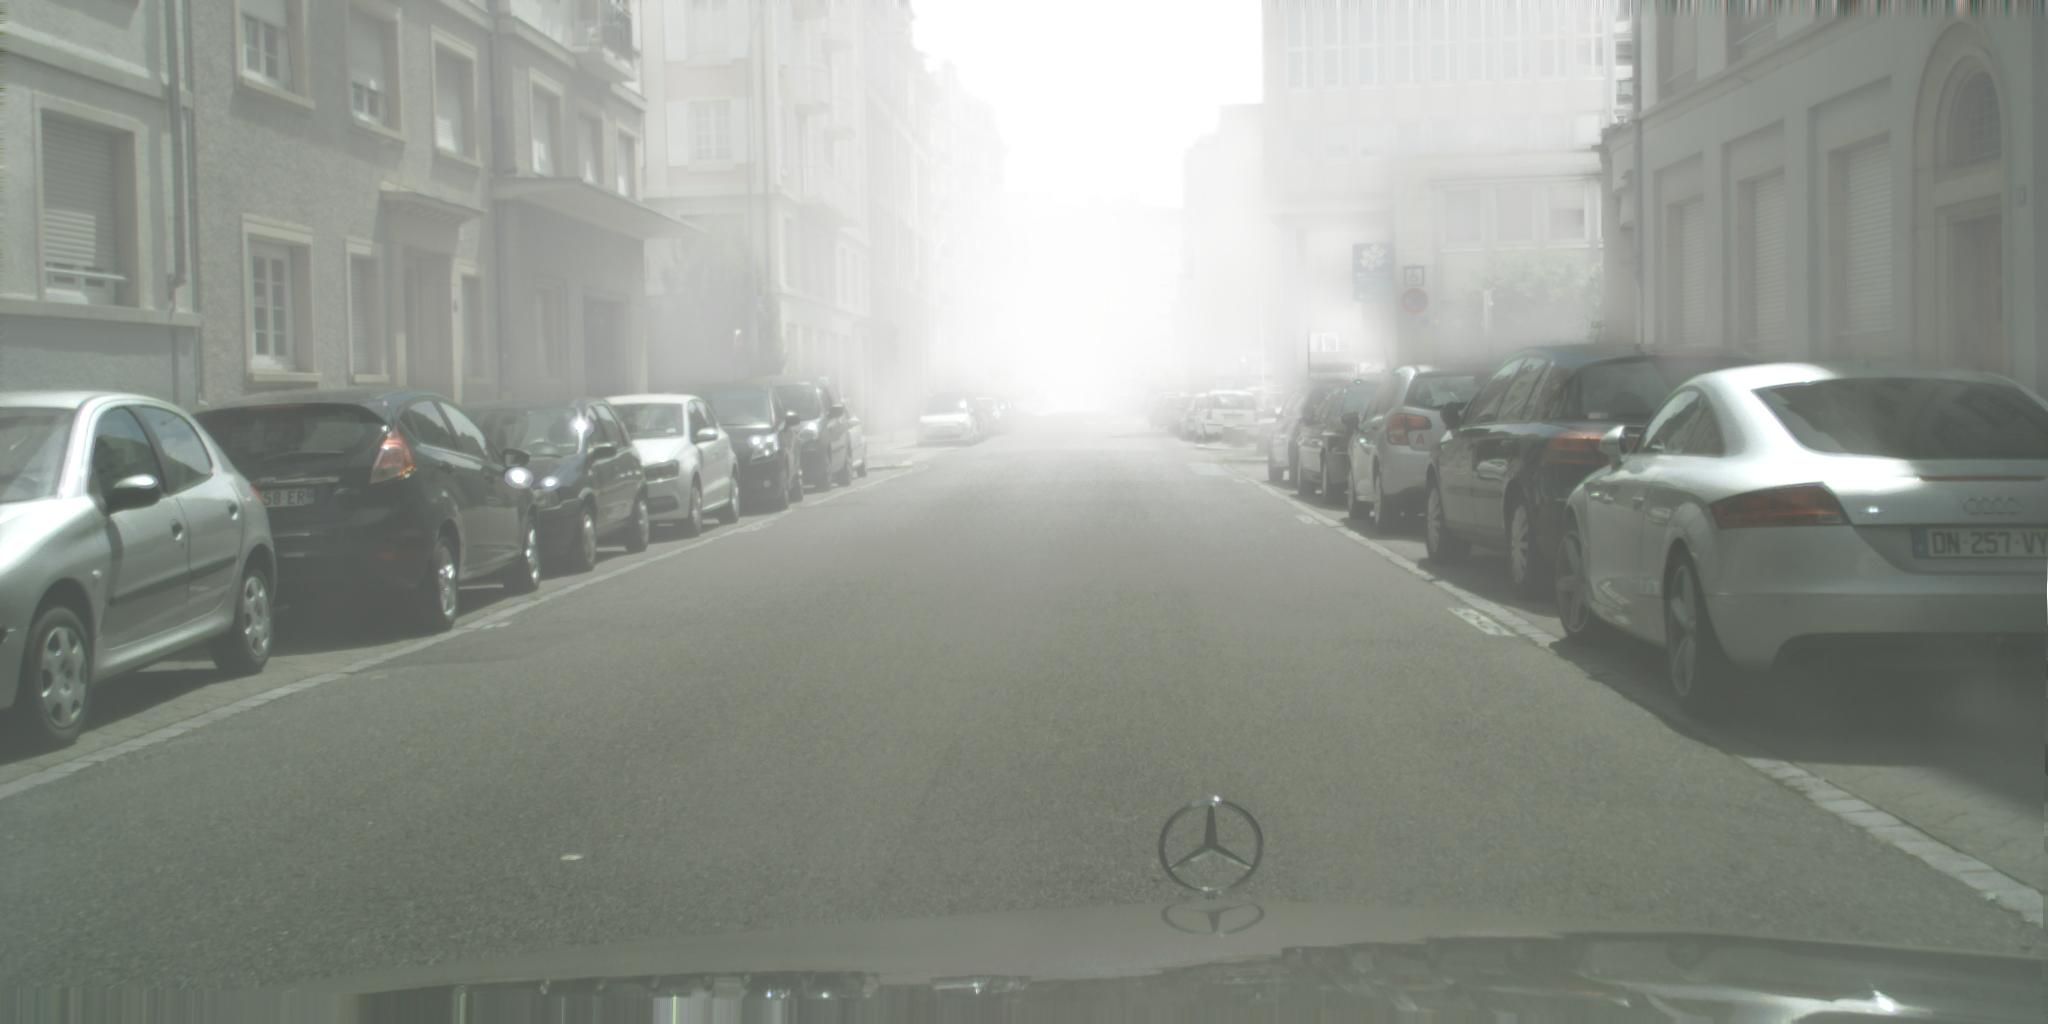car: (1553, 360, 2048, 720), (78, 387, 541, 632), (1, 391, 280, 755), (1426, 345, 1788, 605), (410, 396, 650, 573), (1341, 355, 1522, 537), (619, 381, 805, 513), (584, 393, 744, 538), (1294, 380, 1412, 505), (728, 376, 853, 492), (1264, 379, 1365, 488), (808, 398, 867, 478), (916, 391, 987, 448), (1194, 391, 1260, 443), (1177, 393, 1223, 441), (959, 396, 1008, 436), (1166, 394, 1211, 438), (951, 398, 990, 443), (970, 398, 1016, 432), (1149, 396, 1189, 431), (960, 401, 997, 438), (984, 398, 1017, 432), (1156, 391, 1191, 413), (1108, 393, 1140, 417), (1245, 387, 1270, 409)
